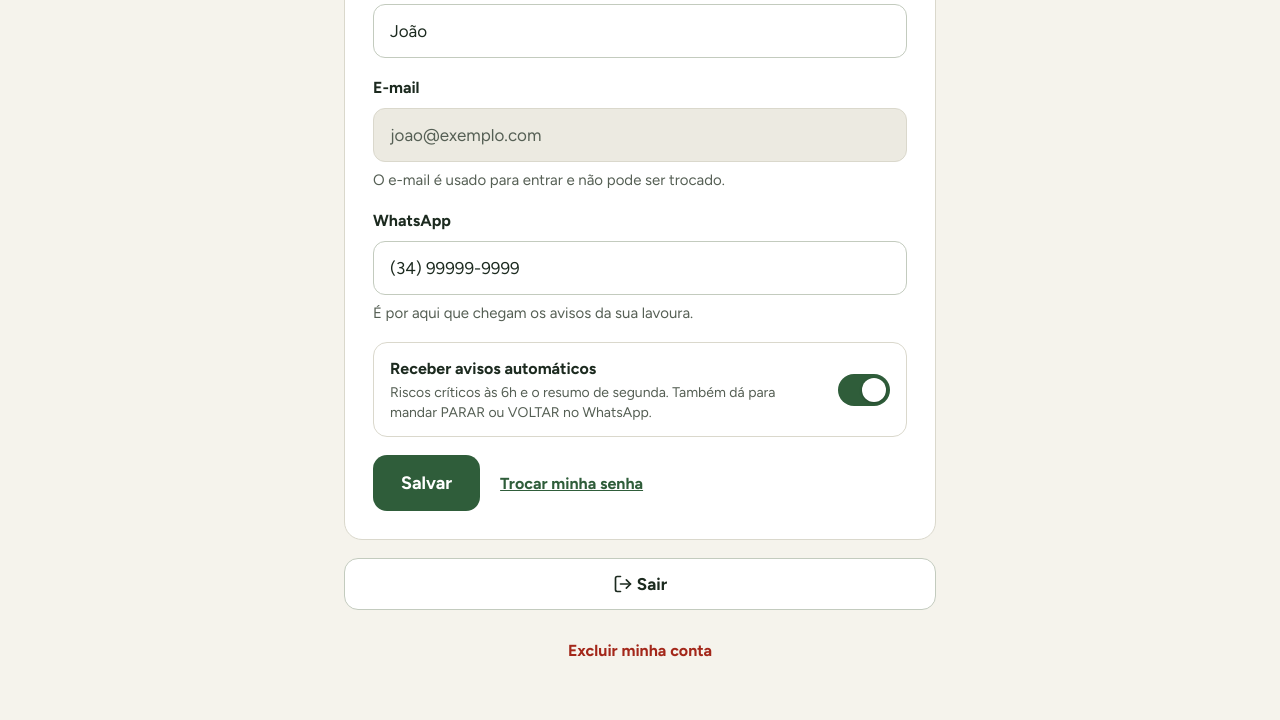
Test: Minha conta › com a senha certa, exclui e volta para o login com o aviso
(page scrolled)
Expected: the field labelled "Nome" is shown, [373,4,907,58]
Click the button "Excluir minha conta". click: (640, 650)
box: [344,628,936,672]
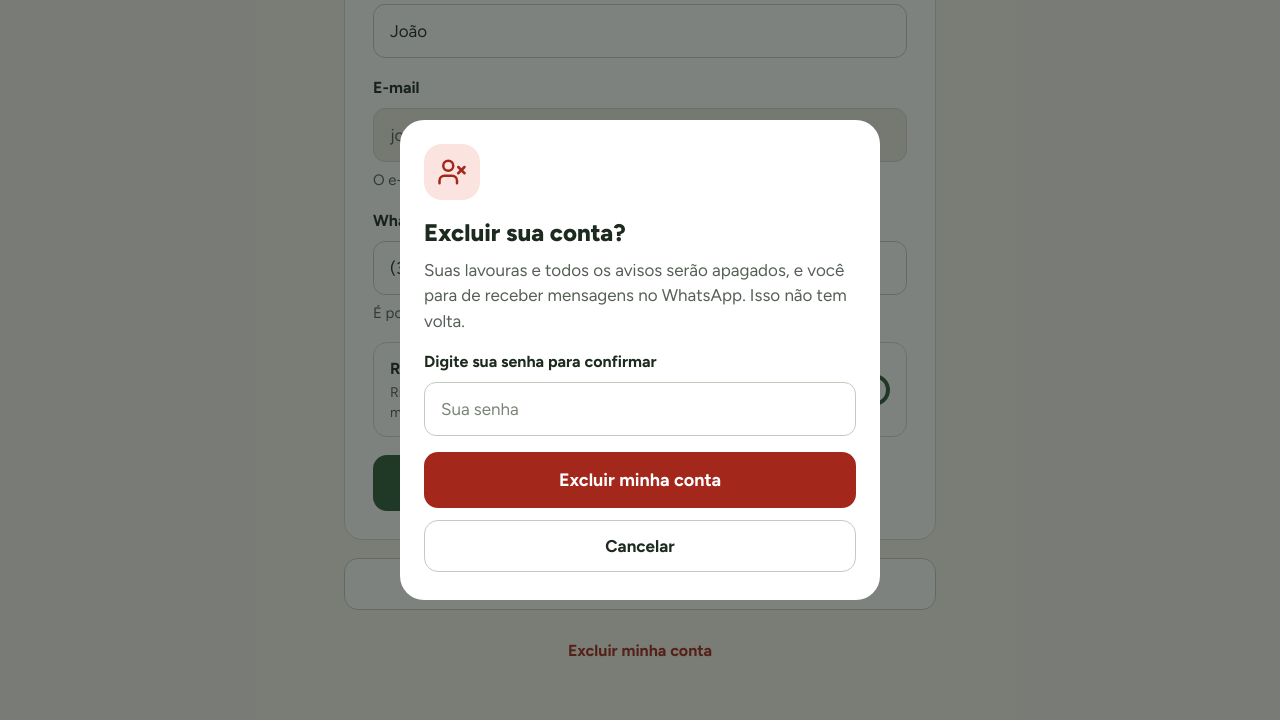
Type "123456" into the password field labelled "Digite sua senha para confirmar". click: (640, 409)
box: [424,382,856,436]
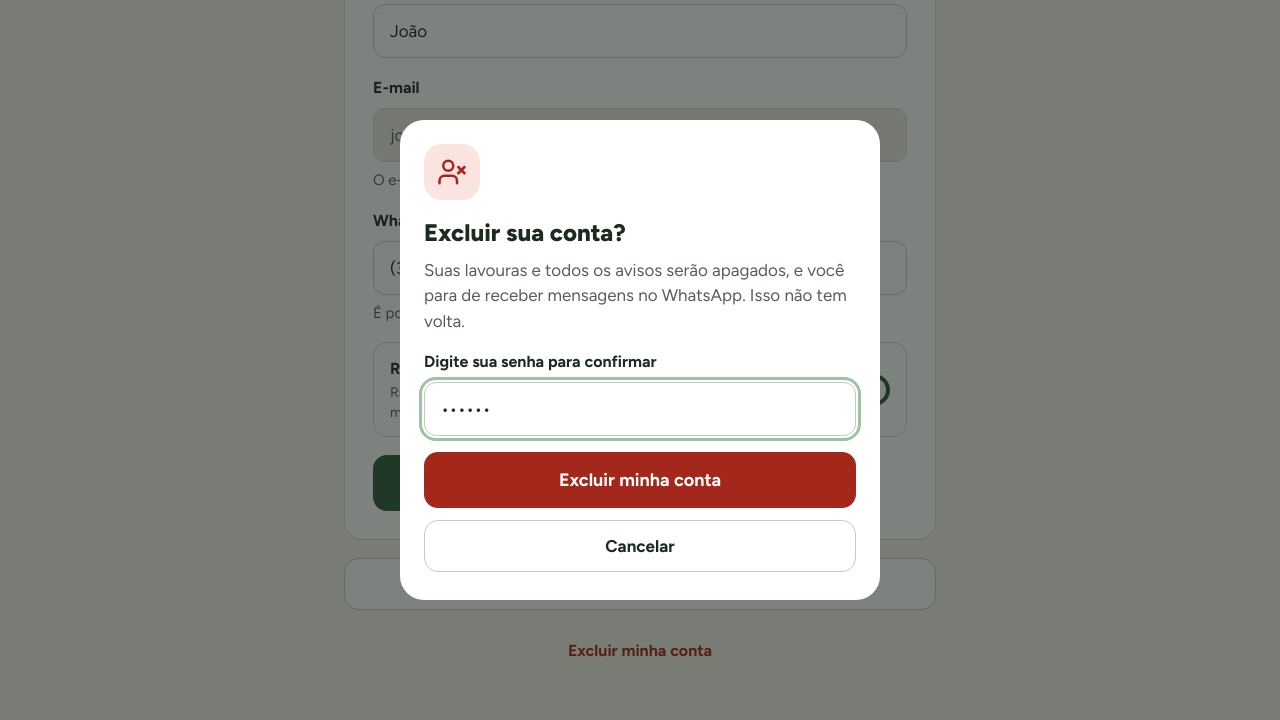
Click the button "Excluir minha conta". click: (640, 480)
box: [424,452,856,508]
(page scrolled)
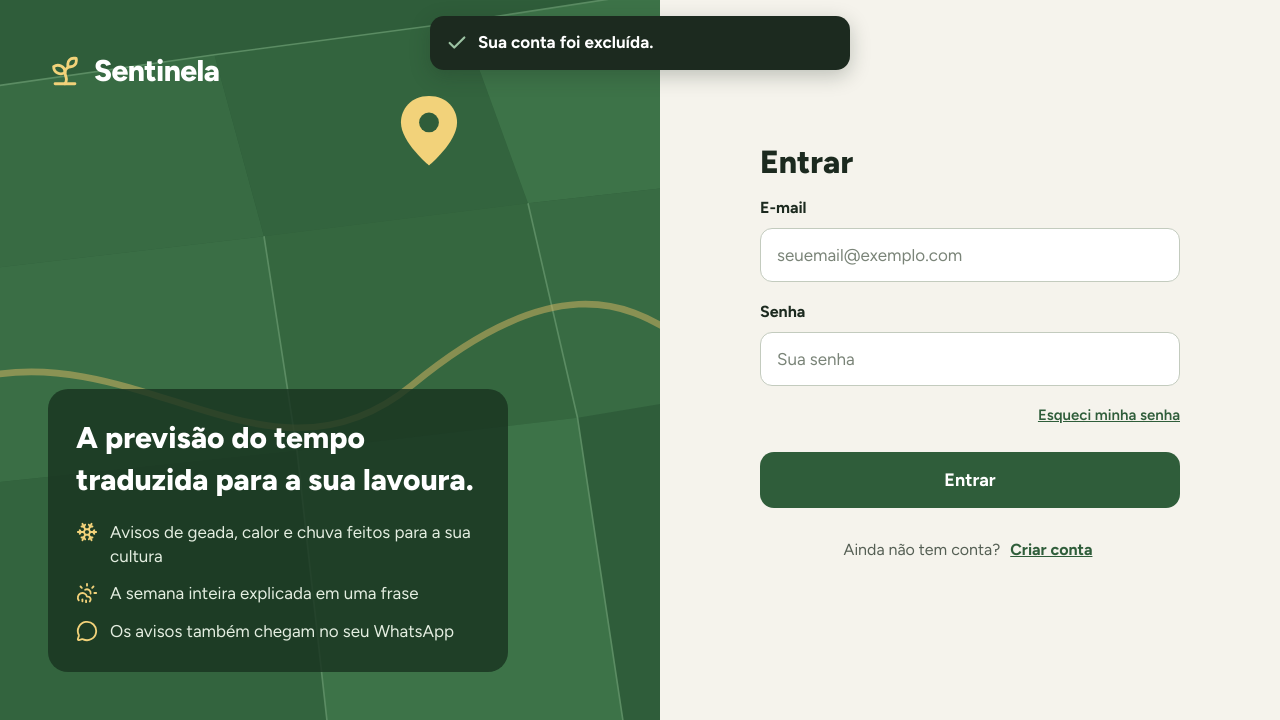
Result: the heading "Entrar" is shown at [760,143,853,181]
Result: the message reads "Sua conta foi excluída." at [478,32,653,52]
